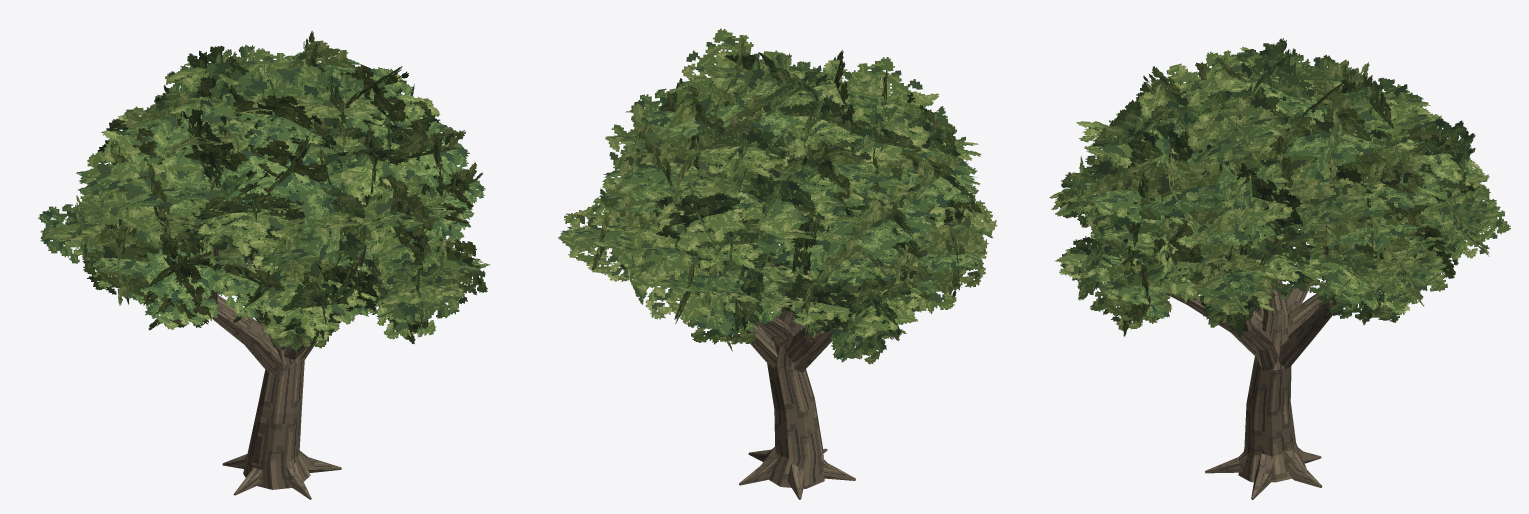
Rendered from oak_tree.glb.
3 views of the same model, side by side, from view 1: azimuth 30°, elevation 25°; view 2: azimuth 150°, elevation 25°; view 3: azimuth 270°, elevation 25° (orthographic).
Visible parts, largest first — view 1: OakTree; view 2: OakTree; view 3: OakTree.
Part boxes in pixels (x1=…): OakTree: x1=38, y1=31, x2=489, y2=499; OakTree: x1=558, y1=28, x2=997, y2=499; OakTree: x1=1049, y1=38, x2=1510, y2=499.
Bounding box in the file's own units: 4.26 × 4.38 × 4.47.
2 materials, 2 textured.
